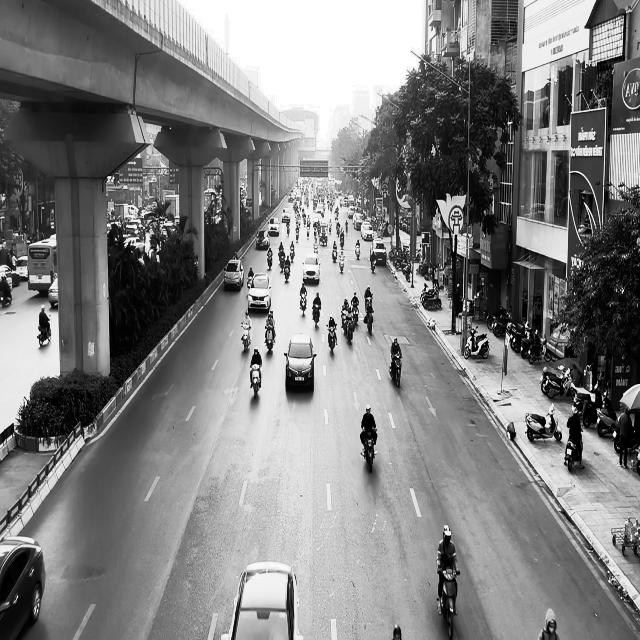car: (220, 560, 304, 640), (0, 535, 46, 640), (284, 332, 317, 392), (247, 272, 272, 312), (224, 258, 244, 290), (302, 252, 322, 284), (370, 239, 387, 265), (48, 276, 58, 308), (256, 230, 270, 249), (269, 217, 280, 236)
motorbike: (438, 568, 460, 639), (526, 402, 562, 442), (464, 326, 489, 358), (360, 429, 378, 473), (564, 432, 582, 471), (389, 351, 403, 387), (37, 314, 52, 346), (250, 363, 262, 398), (327, 323, 338, 355), (241, 322, 252, 352), (364, 308, 374, 336), (265, 326, 275, 353), (312, 303, 321, 328), (300, 292, 307, 315), (339, 255, 345, 273), (355, 244, 361, 260), (371, 256, 376, 273)
